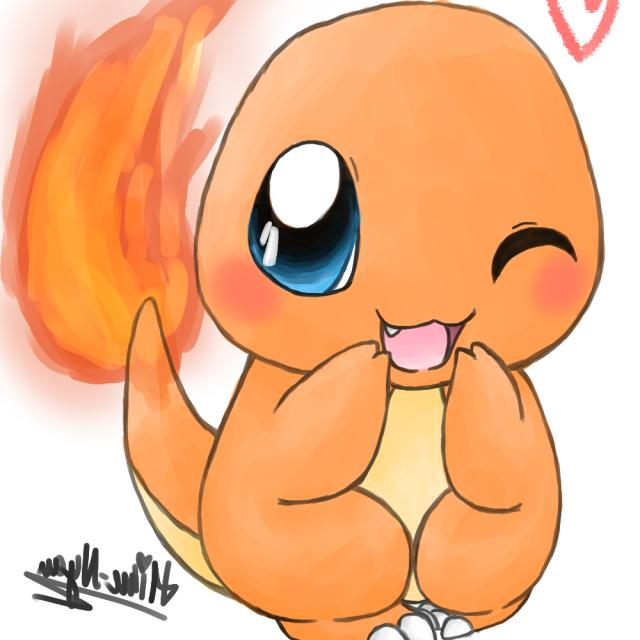Charmander: (185, 11, 592, 633)
